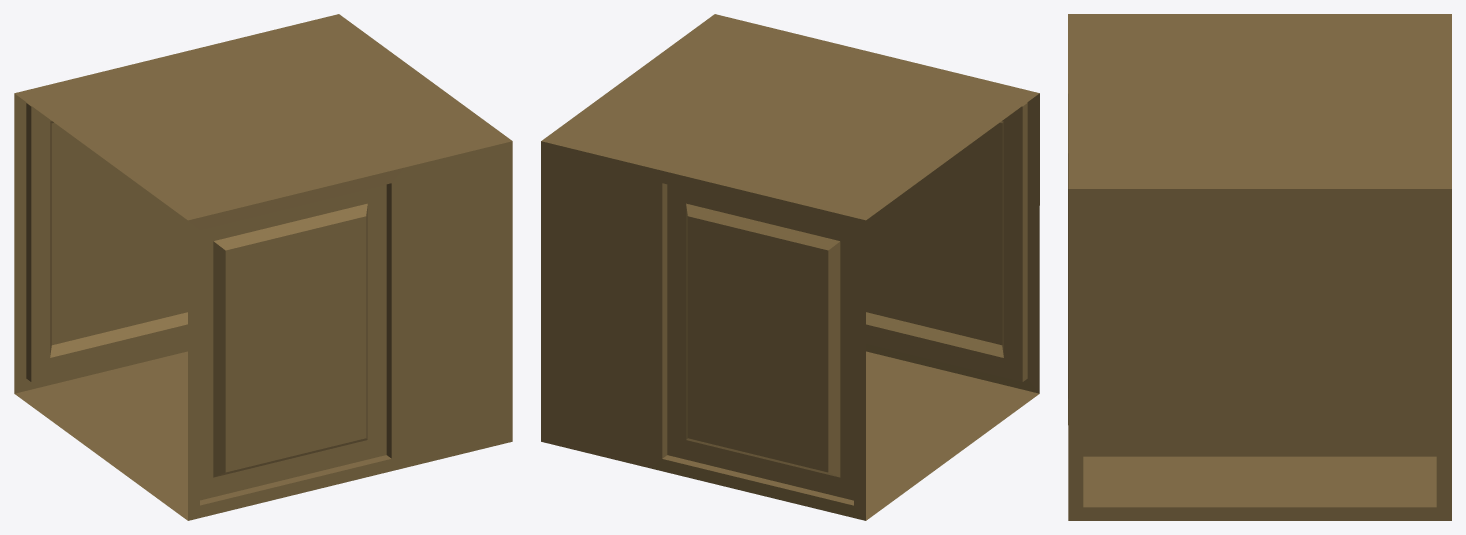
The model's file is Itr_Diningtable_Body_right_01.FBX.
3 views of the same model, side by side, from view 1: azimuth 30°, elevation 25°; view 2: azimuth 150°, elevation 25°; view 3: azimuth 270°, elevation 25° (orthographic). The views are drawn at different scales.
Visible parts, largest first — view 1: Itr_Diningtable_Body_right_01; view 2: Itr_Diningtable_Body_right_01; view 3: Itr_Diningtable_Body_right_01.
Part boxes in pixels (x1,y1,x2,y2): Itr_Diningtable_Body_right_01: [14, 14, 512, 520]; Itr_Diningtable_Body_right_01: [541, 14, 1039, 520]; Itr_Diningtable_Body_right_01: [1068, 14, 1451, 520].
Bounding box in the file's own units: 37.23 × 32.91 × 34.5.
